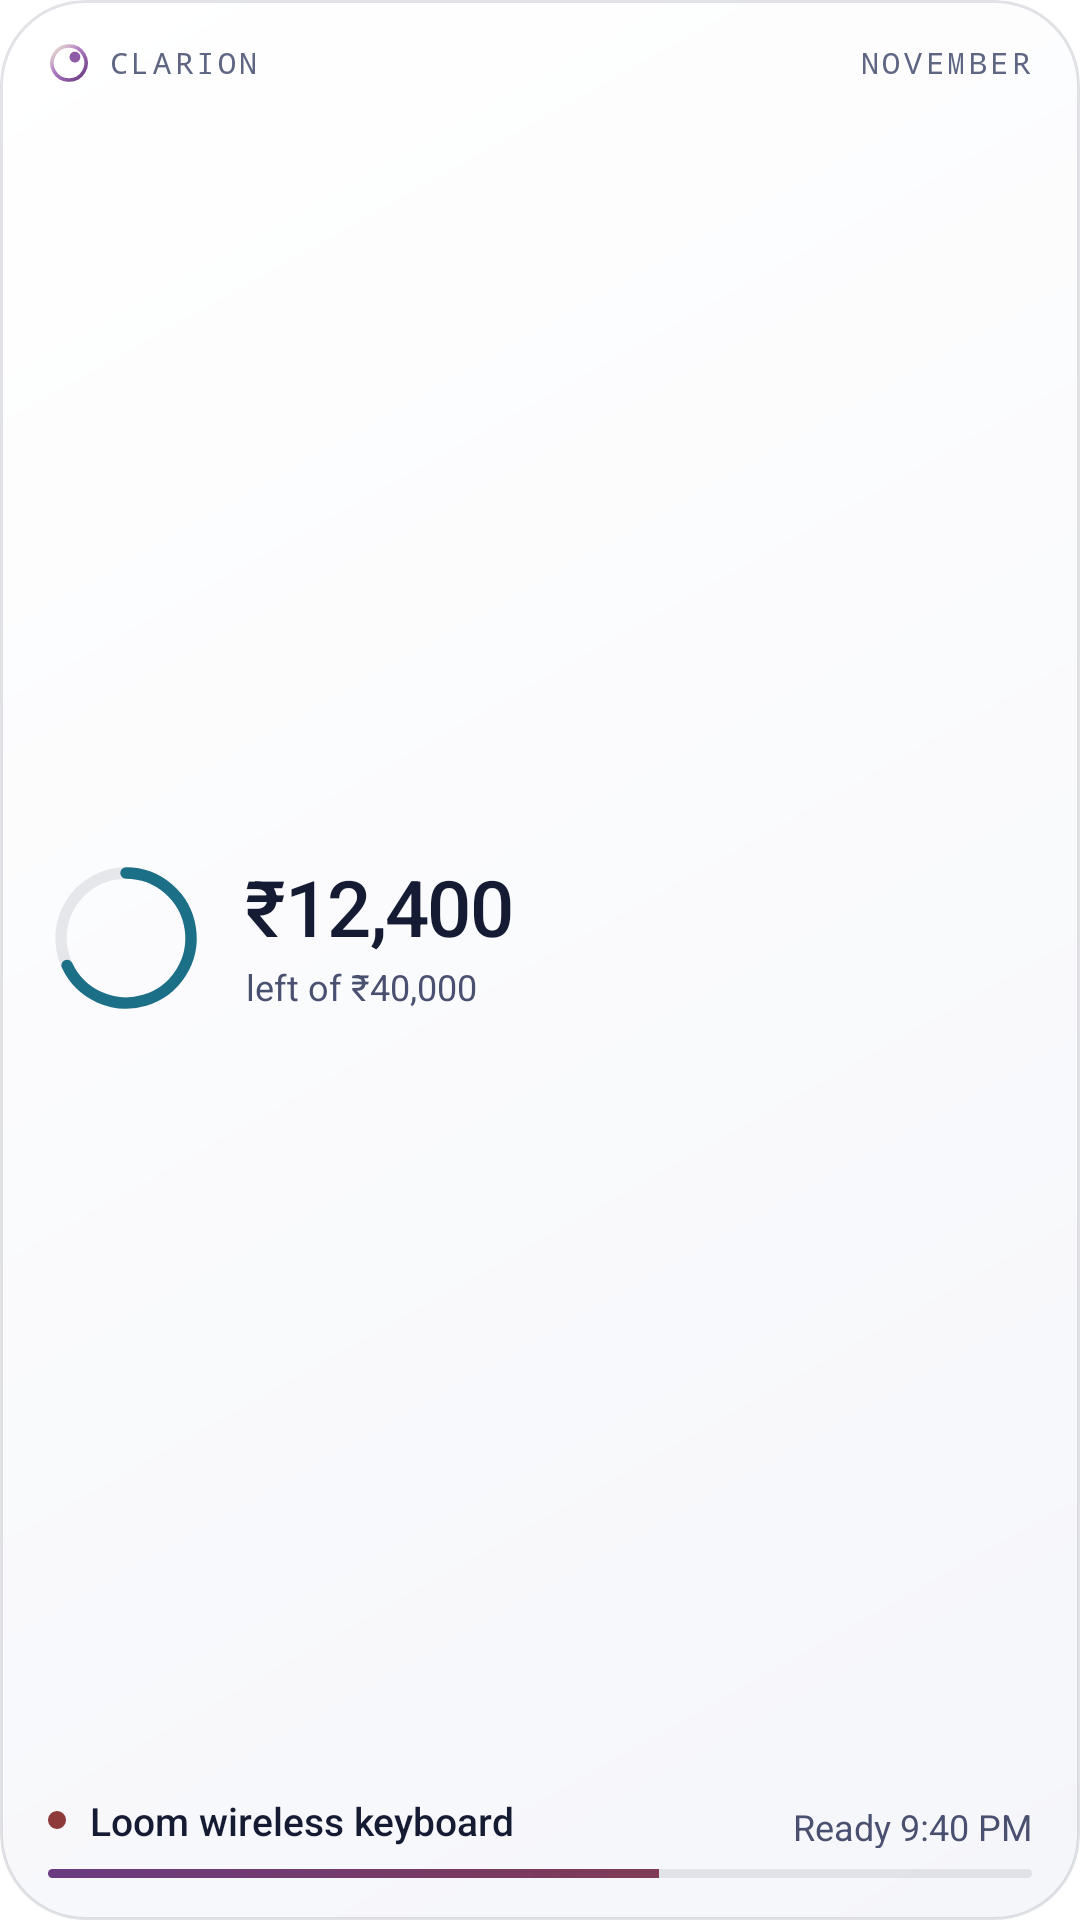

Point at icon controls on the screen. Image size 1080×1920, points as point (x, y).
widget lens: point (69, 63)
widget ring: point (129, 938)
